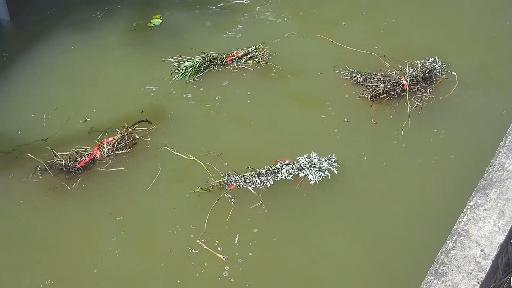leaf: (144, 13, 169, 27)
twig: (313, 31, 462, 120), (0, 108, 154, 193), (160, 138, 351, 197), (156, 30, 289, 81)
